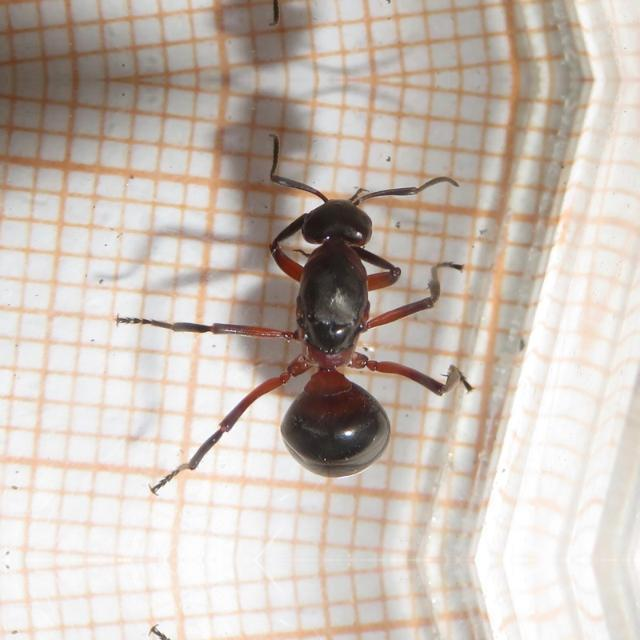Formica: (224, 129, 472, 495)
